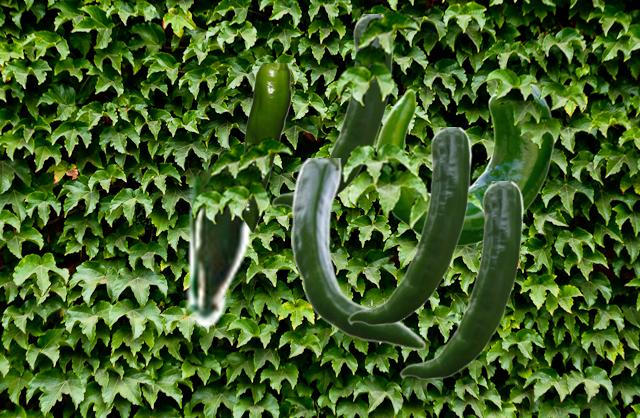green_chili: (376, 81, 554, 244), (291, 158, 425, 348), (399, 181, 523, 379), (347, 127, 471, 325), (271, 14, 393, 208), (181, 162, 258, 327), (238, 63, 290, 232)
